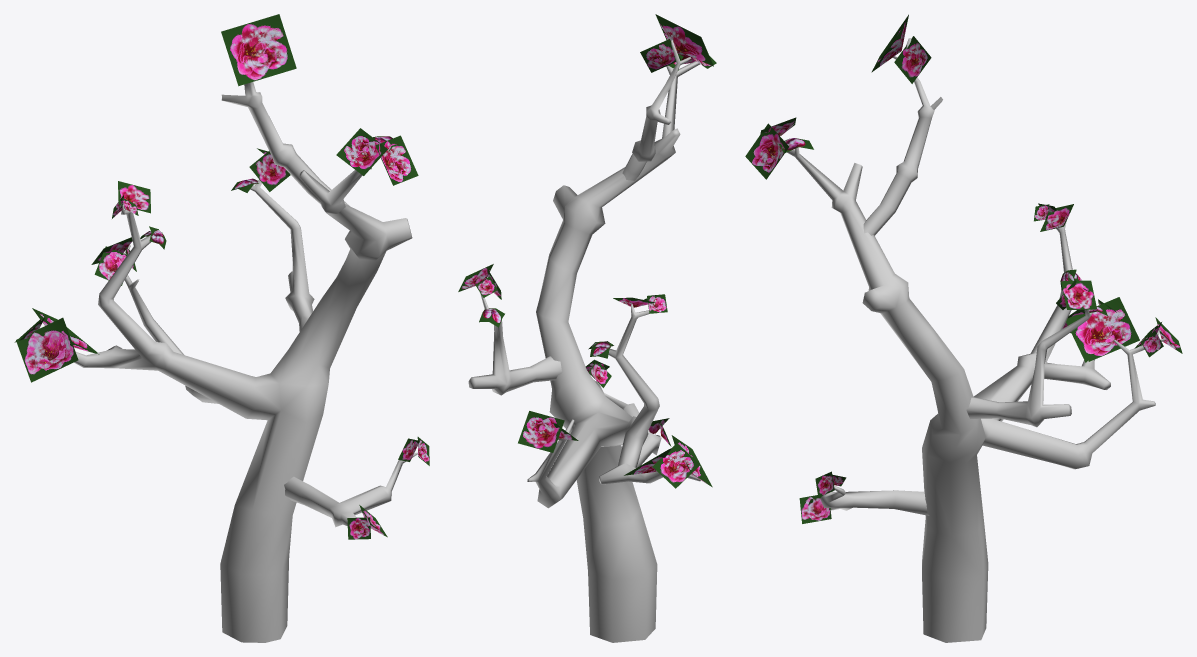
File: Stage_BingYuan_Shu09.FBX
3 views of the same model, side by side, from view 1: azimuth 30°, elevation 25°; view 2: azimuth 150°, elevation 25°; view 3: azimuth 270°, elevation 25° (orthographic). The views are drawn at different scales.
Parts seen in each view (by area): view 1: Stage_BingYuan_Shu09; view 2: Stage_BingYuan_Shu09; view 3: Stage_BingYuan_Shu09.
Boxes of the visible parts, x1,y1,x2,y2 form: Stage_BingYuan_Shu09: [14, 14, 429, 642]; Stage_BingYuan_Shu09: [458, 14, 716, 642]; Stage_BingYuan_Shu09: [745, 14, 1182, 642].
Size of the model in its own units: 204 by 452 by 300.
